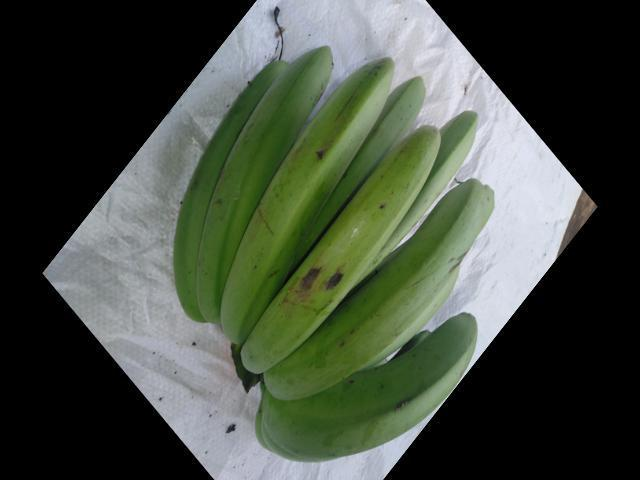unripe: (259, 116, 441, 383), (252, 323, 492, 479)
